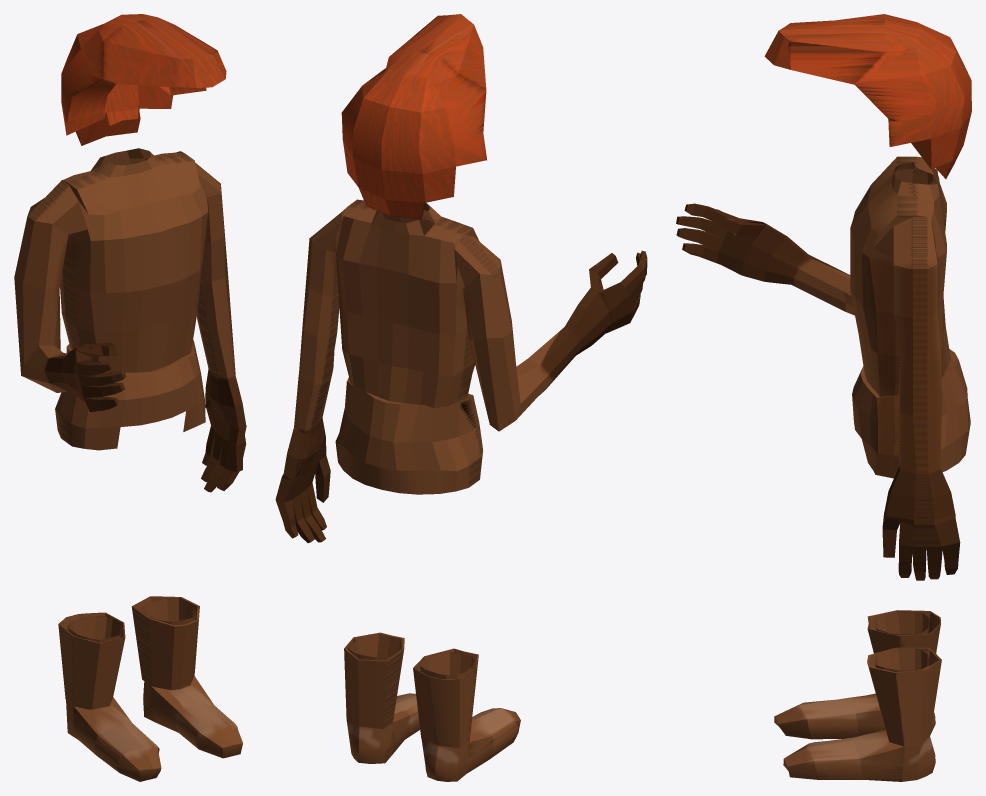
Rendered from Player.fbx.
3 renders of one model, left to right at view 1: azimuth 30°, elevation 25°; view 2: azimuth 150°, elevation 25°; view 3: azimuth 270°, elevation 25°, orthographic. The views are drawn at different scales.
Visible parts, largest first — view 1: pasted__polySurface4; view 2: pasted__polySurface4; view 3: pasted__polySurface4.
Boxes of the visible parts, left/top/right/bottom form: pasted__polySurface4: left=14, top=14, right=246, bottom=781; pasted__polySurface4: left=275, top=14, right=647, bottom=781; pasted__polySurface4: left=676, top=14, right=971, bottom=781.
Bounding box in the file's own units: 1.2 × 3.22 × 1.18.
Materials: 1 (1 with a texture image).
